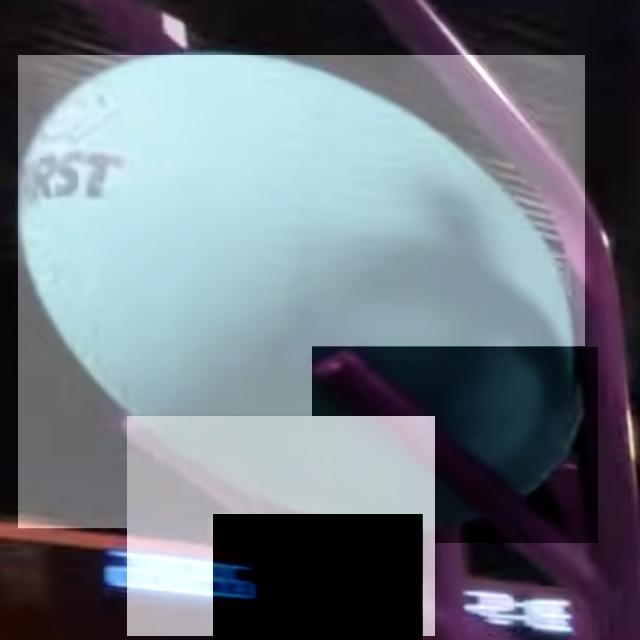Algae: (18, 56, 585, 530)
Reef: (127, 416, 435, 636), (312, 347, 598, 543), (214, 514, 424, 640)
